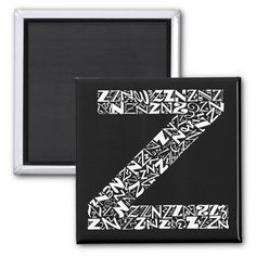z: (84, 86, 234, 234)
